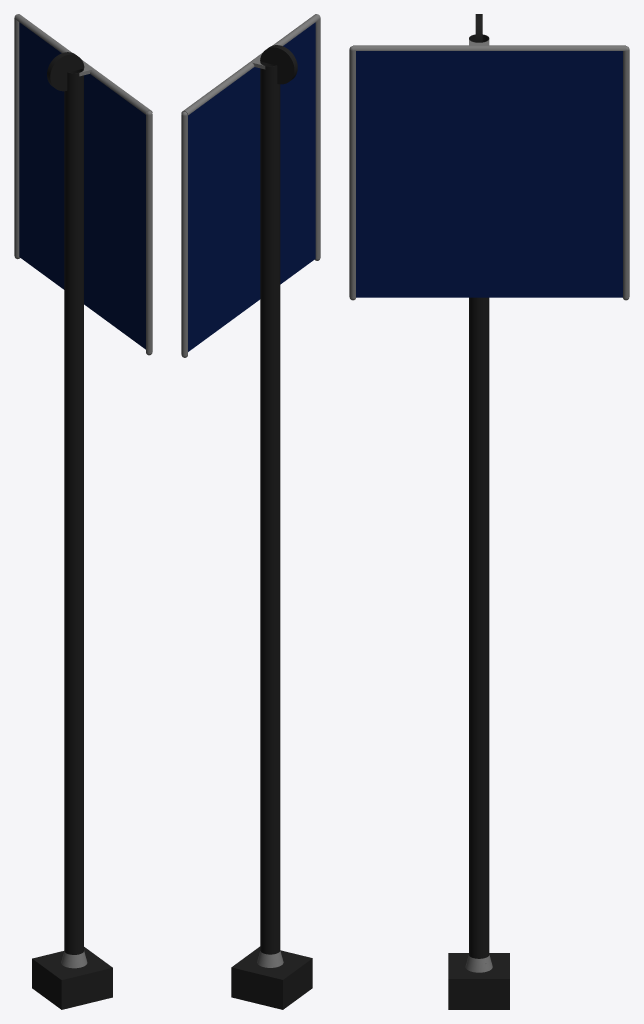
File: solarPanel.fbx
3 views of the same model, side by side, from view 1: azimuth 30°, elevation 25°; view 2: azimuth 150°, elevation 25°; view 3: azimuth 270°, elevation 25° (orthographic). The views are drawn at different scales.
Parts seen in each view (by area): view 1: Mesh_0, Mesh_1, Mesh_6, Mesh_5, Mesh_4, Mesh_2, Mesh_3, Mesh_7; view 2: Mesh_0, Mesh_1, Mesh_6, Mesh_4, Mesh_5, Mesh_2, Mesh_3, Mesh_7; view 3: Mesh_0, Mesh_1, Mesh_6, Mesh_4, Mesh_5, Mesh_2.
Part boxes in pixels (x1,y1,x2,y2): Mesh_0: (19, 22, 145, 349); Mesh_1: (64, 68, 83, 954); Mesh_6: (32, 947, 112, 1009); Mesh_5: (146, 111, 152, 355); Mesh_4: (14, 15, 19, 259); Mesh_2: (14, 14, 152, 114); Mesh_3: (47, 52, 84, 91); Mesh_7: (61, 951, 87, 968); Mesh_0: (188, 22, 315, 351); Mesh_1: (260, 61, 280, 954); Mesh_6: (231, 946, 312, 1009); Mesh_4: (181, 111, 187, 357); Mesh_5: (314, 15, 320, 260); Mesh_2: (181, 14, 320, 115); Mesh_3: (260, 45, 297, 84); Mesh_7: (257, 951, 283, 967); Mesh_0: (356, 51, 622, 297); Mesh_1: (469, 34, 489, 958); Mesh_6: (448, 953, 509, 1009); Mesh_4: (623, 46, 629, 300); Mesh_5: (349, 46, 355, 300); Mesh_2: (353, 45, 625, 50).
Size of the model in its own units: 2286 by 40119 by 10414.
